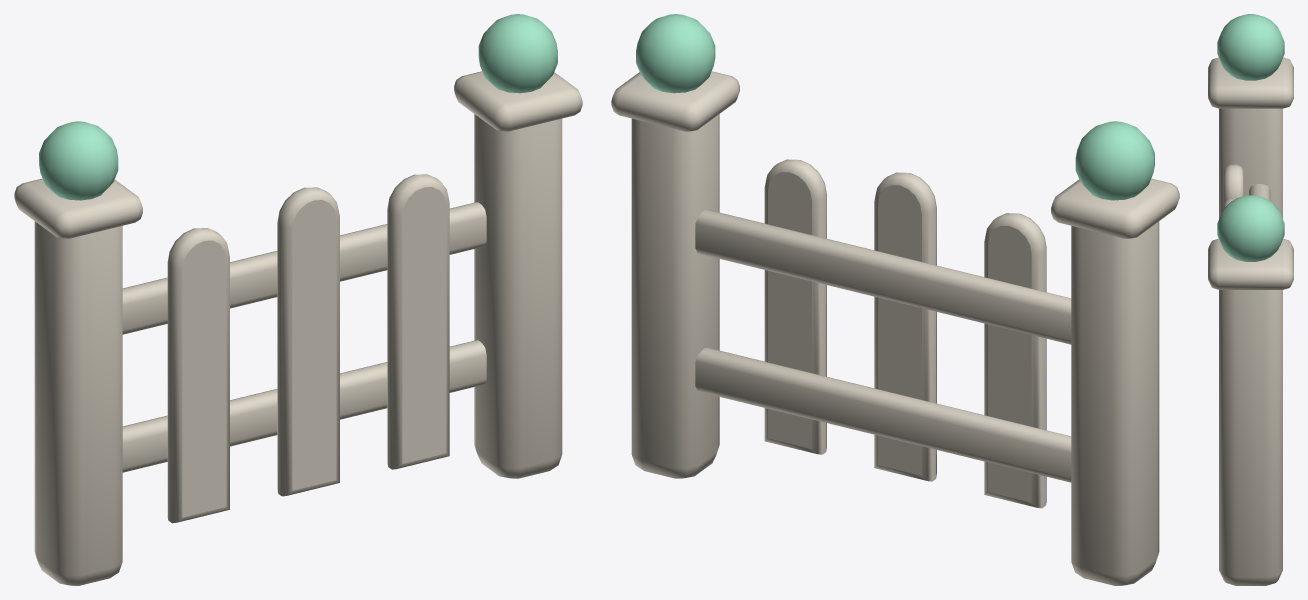
The model's file is prop_fence.glb.
3 views of the same model, side by side, from view 1: azimuth 30°, elevation 25°; view 2: azimuth 150°, elevation 25°; view 3: azimuth 270°, elevation 25° (orthographic). The views are drawn at different scales.
Parts seen in each view (by area): view 1: prop_fence; view 2: prop_fence; view 3: prop_fence.
Part boxes in pixels (left/top/right/bottom): prop_fence: left=14, top=14, right=582, bottom=585; prop_fence: left=611, top=14, right=1179, bottom=585; prop_fence: left=1208, top=14, right=1293, bottom=585.
Bounding box in the file's own units: 1.2 × 0.98 × 0.2.
